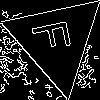F: (31, 15, 80, 55)
